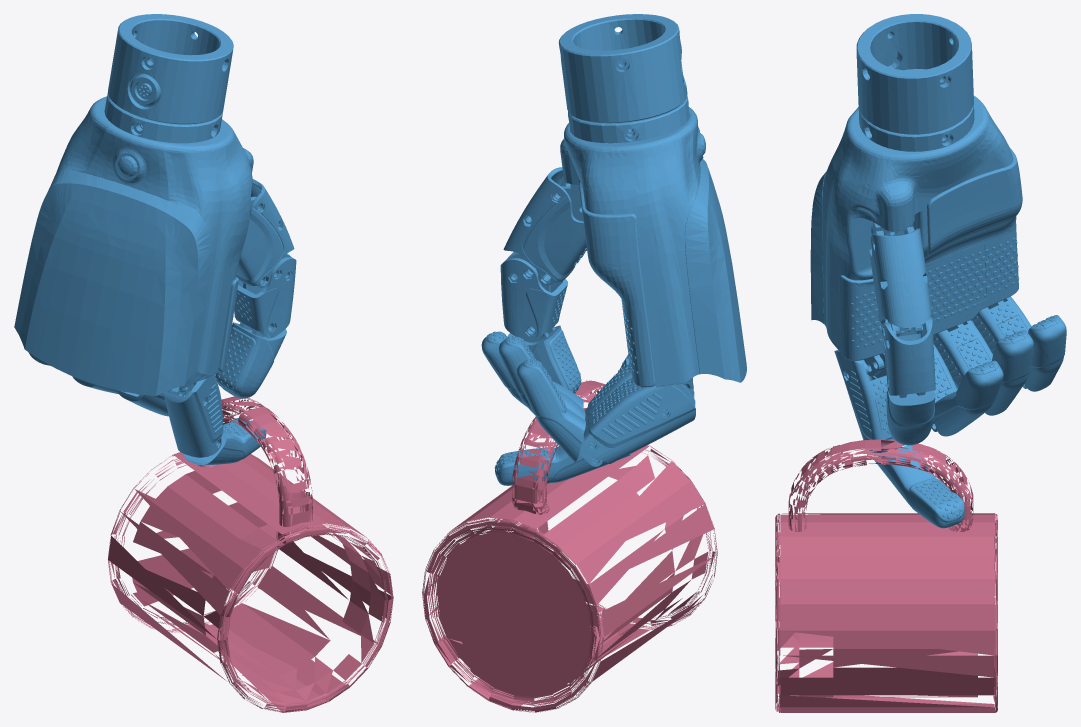
The picture shows the model from 3 angles, left to right: view 1: azimuth 30°, elevation 25°; view 2: azimuth 150°, elevation 25°; view 3: azimuth 270°, elevation 25°; orthographic projection. The views are drawn at different scales.
Parts seen in each view (by area): view 1: 2; view 2: 2; view 3: 2.
Part boxes in pixels (x1,y1,x2,y2): 2: (14, 14, 393, 712); 2: (422, 14, 746, 712); 2: (775, 14, 1066, 712).
Bounding box in the file's own units: 0.1397 × 0.3042 × 0.126.
